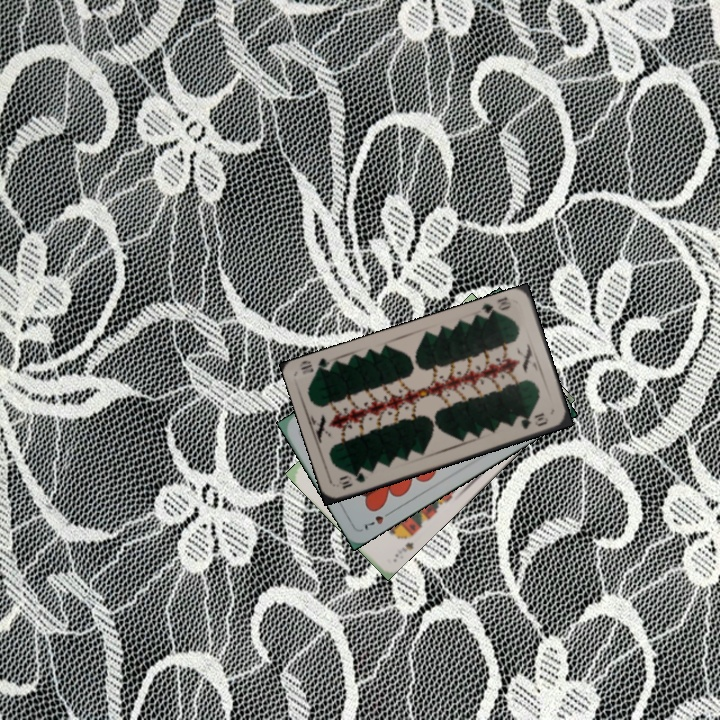G10: (477, 294, 514, 321), (334, 468, 368, 492)
H7: (358, 507, 396, 533)
S9: (391, 538, 416, 560)
